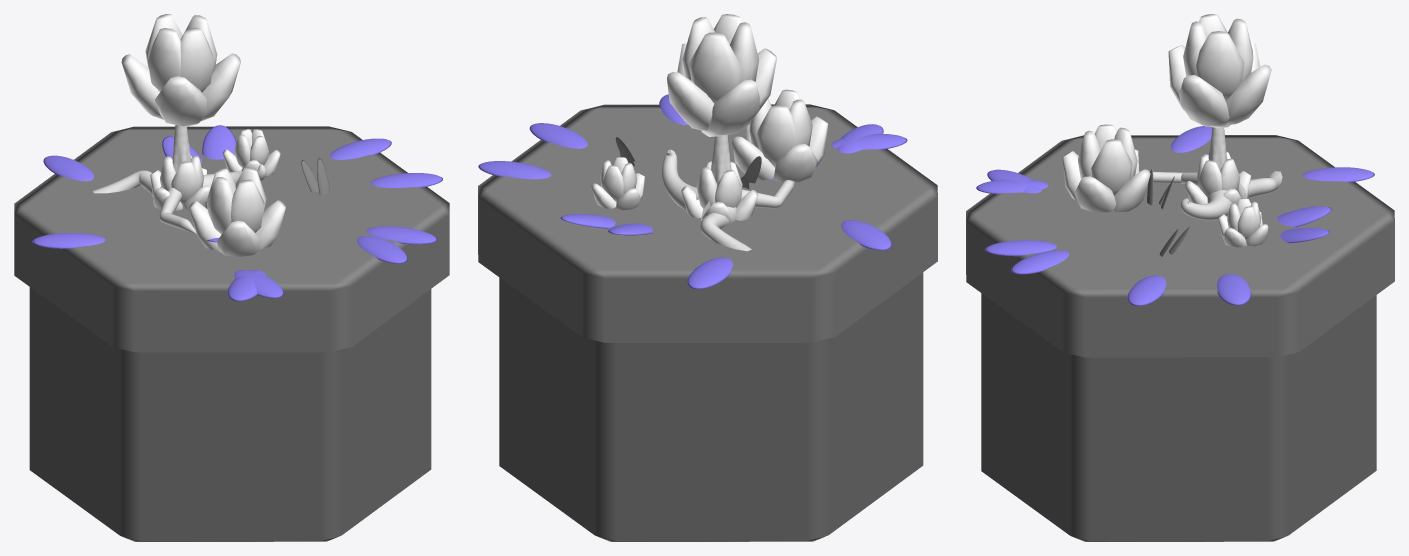
File: tiles_plantes_2.fbx
The picture shows the model from 3 angles, left to right: view 1: azimuth 30°, elevation 25°; view 2: azimuth 150°, elevation 25°; view 3: azimuth 270°, elevation 25°; orthographic projection. The views are drawn at different scales.
Parts seen in each view (by area): view 1: Cylinder.133, Cylinder.134, tree.026, tree.028, tree.025, tree.027, Sphere.575, Sphere.580, Sphere.584, Sphere.576, Sphere.577, Sphere.578 (+5 smaller); view 2: Cylinder.133, Cylinder.134, tree.026, tree.028, tree.025, tree.027, NurbsPath.047, Sphere.579, Sphere.580, Sphere.578, Sphere.577, NurbsPath.048 (+4 smaller); view 3: Cylinder.133, Cylinder.134, tree.026, tree.028, tree.025, tree.027, NurbsPath.048, Sphere.576, Sphere.579, Sphere.577, Sphere.575, Sphere.578 (+5 smaller).
Part boxes in pixels (left/top/right/bottom): Cylinder.133: left=29, top=287, right=431, bottom=541; Cylinder.134: left=14, top=126, right=449, bottom=352; tree.026: left=121, top=14, right=240, bottom=172; tree.028: left=189, top=167, right=285, bottom=256; tree.025: left=150, top=155, right=210, bottom=211; tree.027: left=223, top=129, right=280, bottom=175; Sphere.575: left=366, top=226, right=437, bottom=244; Sphere.580: left=32, top=233, right=105, bottom=248; Sphere.584: left=202, top=125, right=236, bottom=159; Sphere.576: left=357, top=236, right=407, bottom=263; Sphere.577: left=370, top=173, right=442, bottom=187; Sphere.578: left=330, top=138, right=391, bottom=159; Cylinder.133: left=499, top=272, right=923, bottom=541; Cylinder.134: left=478, top=104, right=937, bottom=342; tree.026: left=667, top=14, right=776, bottom=184; tree.028: left=732, top=89, right=828, bottom=182; tree.025: left=681, top=160, right=758, bottom=223; tree.027: left=591, top=157, right=644, bottom=210; NurbsPath.047: left=700, top=201, right=751, bottom=251; Sphere.579: left=687, top=257, right=733, bottom=289; Sphere.580: left=841, top=220, right=891, bottom=250; Sphere.578: left=478, top=161, right=551, bottom=179; Sphere.577: left=529, top=123, right=587, bottom=148; NurbsPath.048: left=661, top=149, right=698, bottom=210; Cylinder.133: left=981, top=293, right=1376, bottom=541; Cylinder.134: left=966, top=135, right=1394, bottom=357; tree.026: left=1168, top=14, right=1271, bottom=169; tree.028: left=1062, top=124, right=1150, bottom=212; tree.025: left=1185, top=152, right=1250, bottom=204; tree.027: left=1218, top=198, right=1268, bottom=247; NurbsPath.048: left=1180, top=190, right=1231, bottom=220; Sphere.576: left=984, top=240, right=1056, bottom=256; Sphere.579: left=1302, top=167, right=1374, bottom=182; Sphere.577: left=1127, top=275, right=1166, bottom=305; Sphere.575: left=1011, top=250, right=1069, bottom=274; Sphere.578: left=1217, top=273, right=1251, bottom=305.
Size of the model in its own units: 192 by 216 by 193.
